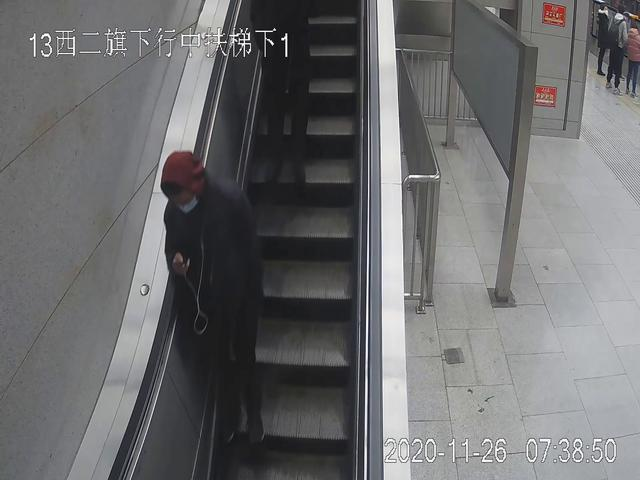person: (160, 151, 264, 445), (248, 1, 314, 191), (605, 7, 622, 96), (593, 4, 612, 76), (622, 23, 640, 94)
